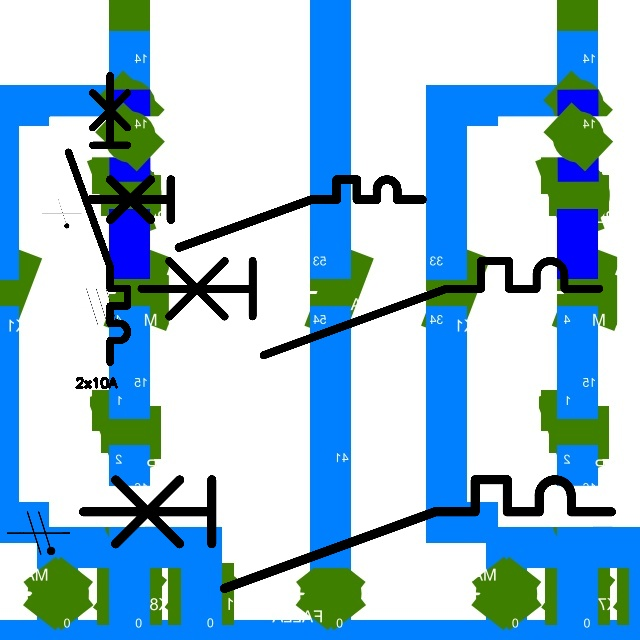interruptor_termomagnetico: (69, 466, 624, 602), (129, 249, 611, 367), (81, 171, 430, 256), (61, 68, 135, 370)
